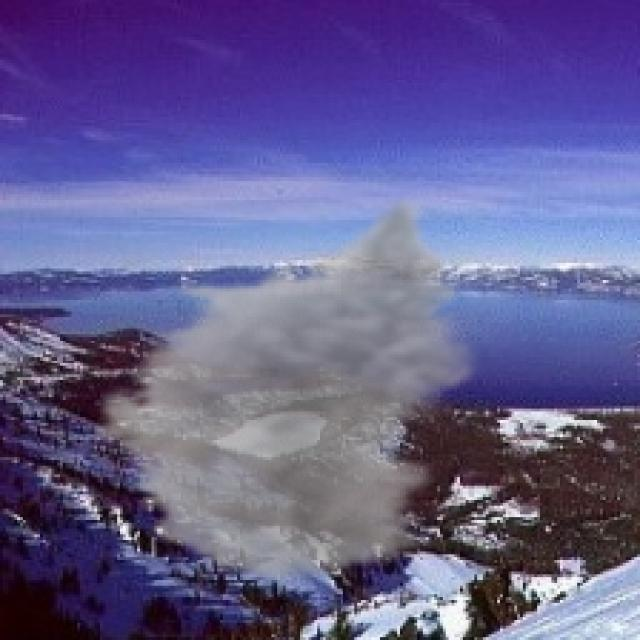smoke: (83, 194, 488, 586)
